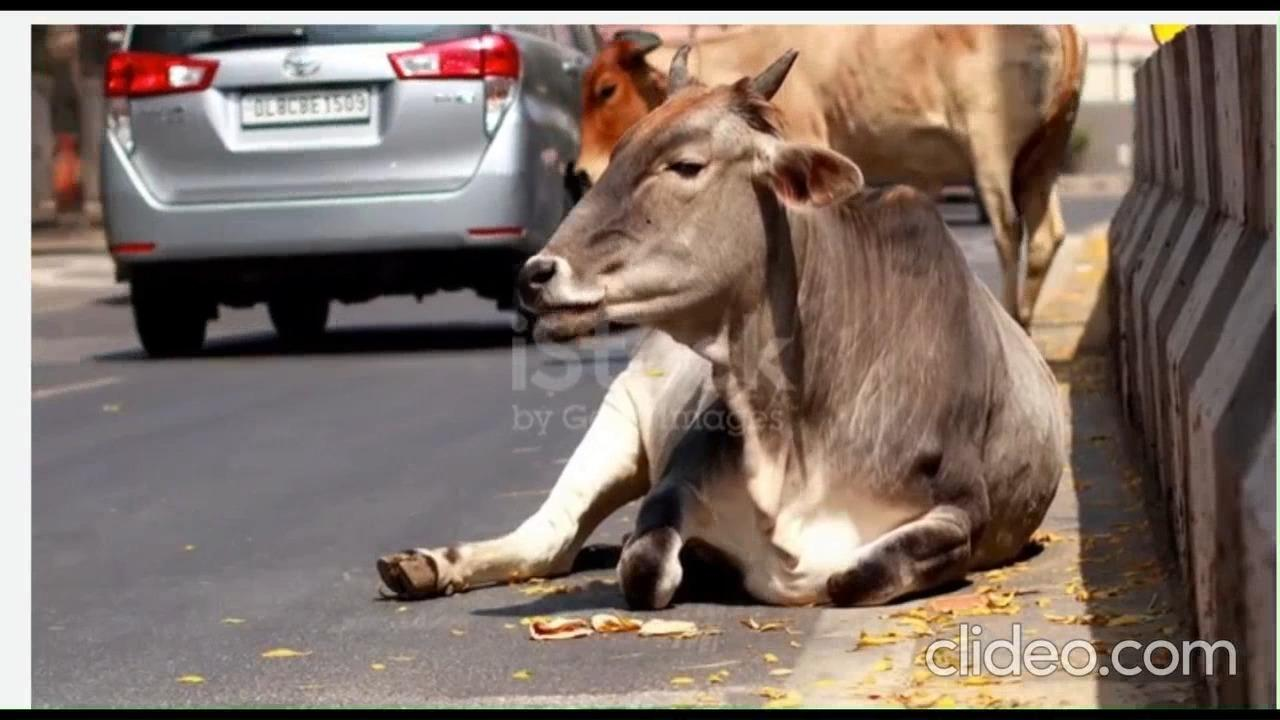Cow: (374, 52, 1068, 603), (570, 23, 1086, 346)
